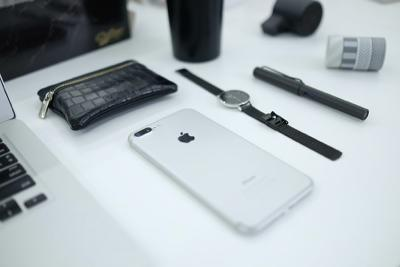Mobile Phone: (127, 106, 314, 234)
